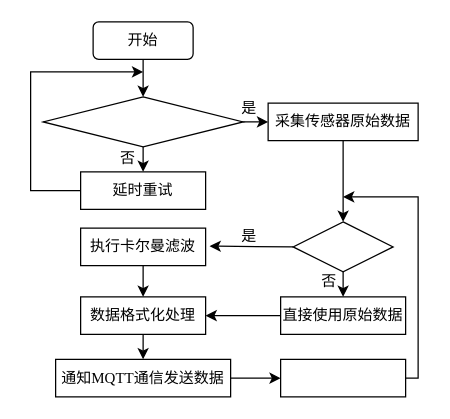
Some shapes in this 450 by 419 pixel diagram are drawn without their labels. The centre of each missing label's shape, as x and y in pixels:
"按配置频率延时" goes at (342,377).
"是否滤波" goes at (342,246).
"设备是否处于运行状态" goes at (142,121).
